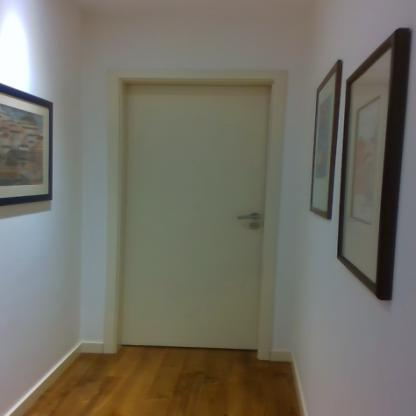door: (124, 84, 264, 347)
lever: (234, 210, 262, 222)
